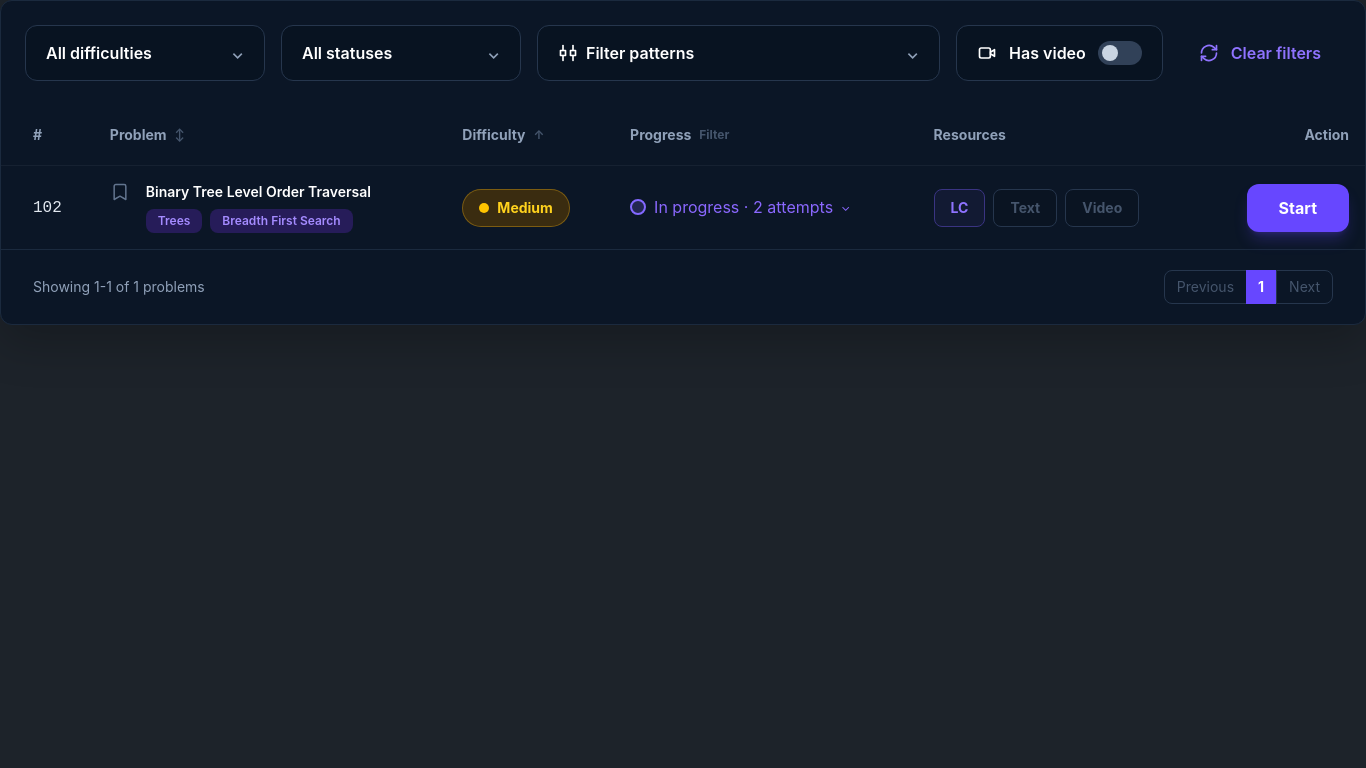
Test: LeetcodeProblemTable › shows attempt history newest first
Click the button "In progress · 2 attempts ⌄".
click(740, 207)  # box left=630, top=195, right=850, bottom=219
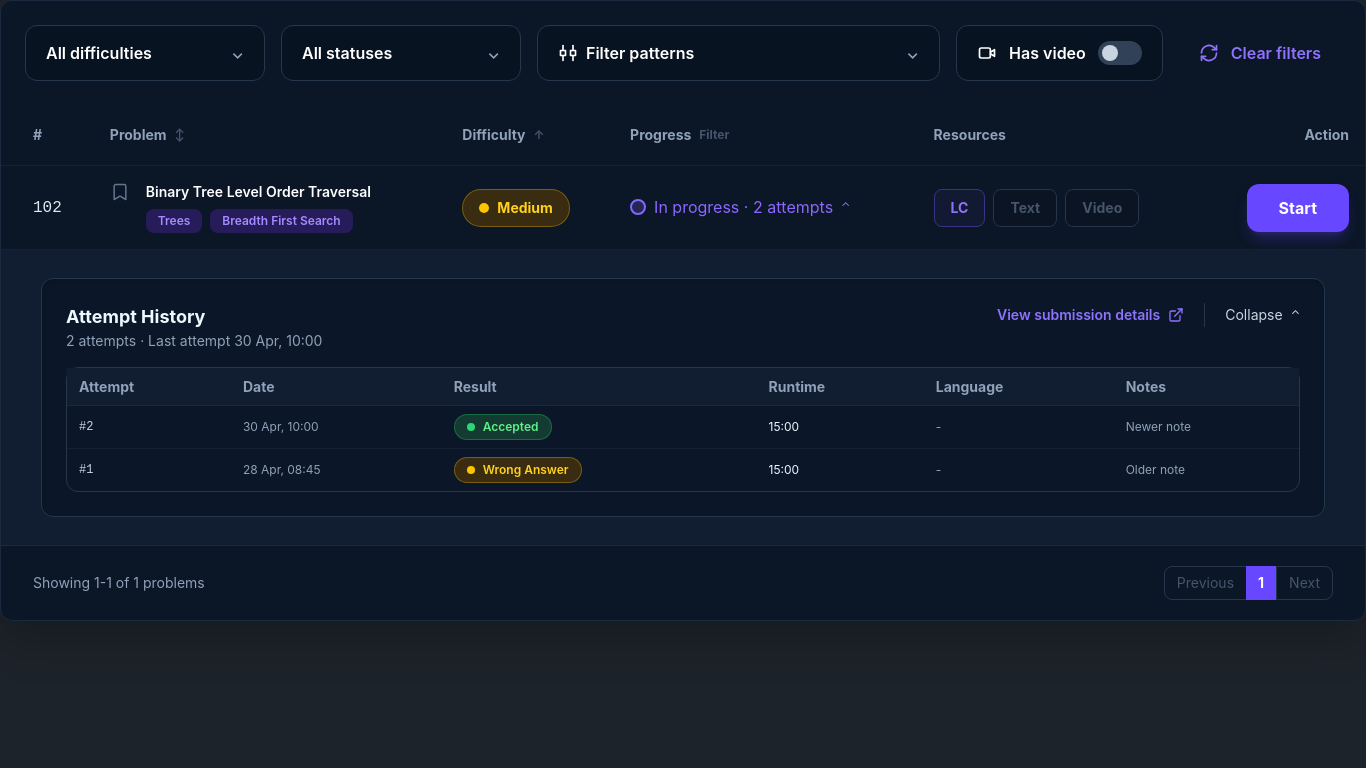
Check: the row "#2 30 Apr, 10:00 Accepted 15:00 - Newer note" is shown, box left=67, top=406, right=1299, bottom=449
Check: the row "#1 28 Apr, 08:45 Wrong Answer 15:00 - Older note" is shown, box left=67, top=449, right=1299, bottom=491
